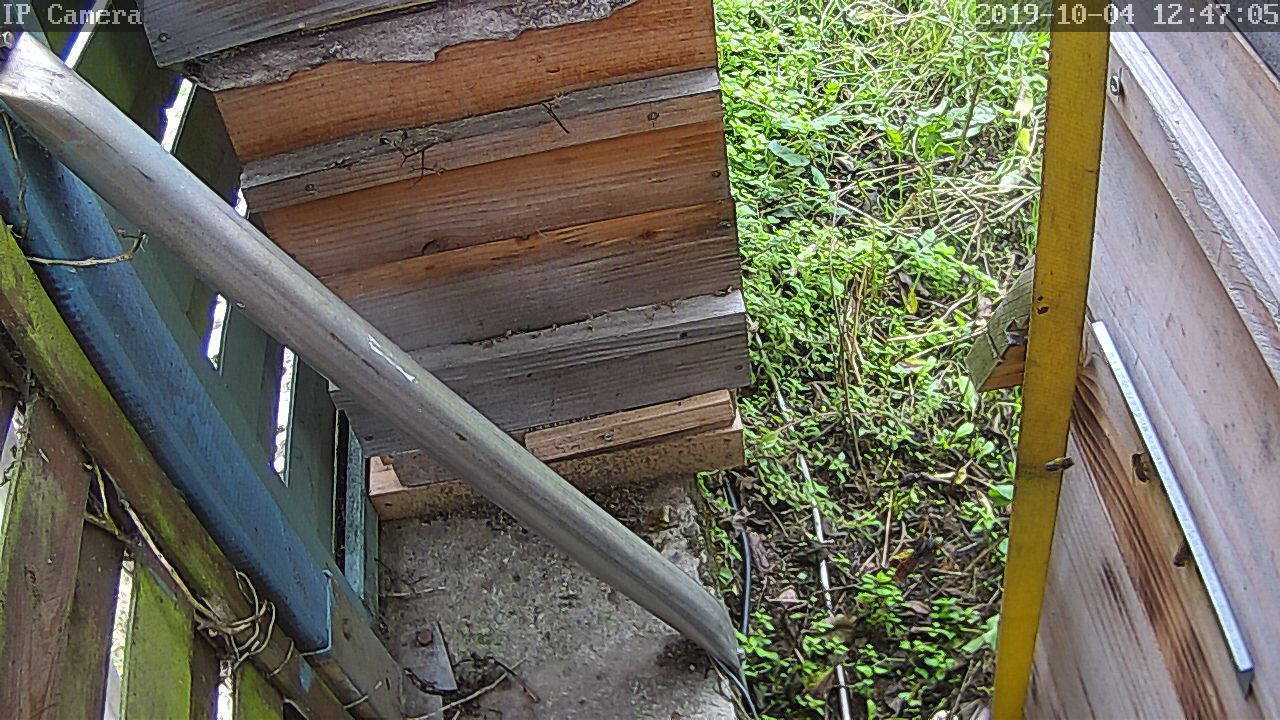bee: (1163, 538, 1198, 577), (1127, 444, 1156, 487)
hornet: (897, 525, 945, 583)
